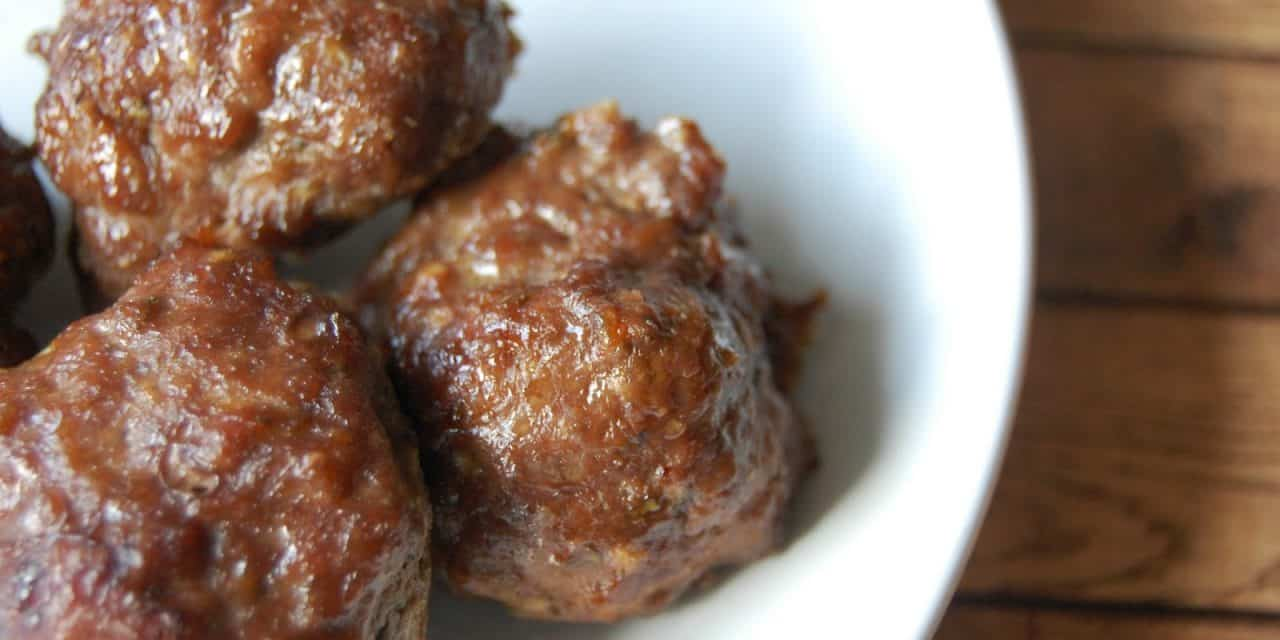meatballs: (88, 45, 730, 580)
